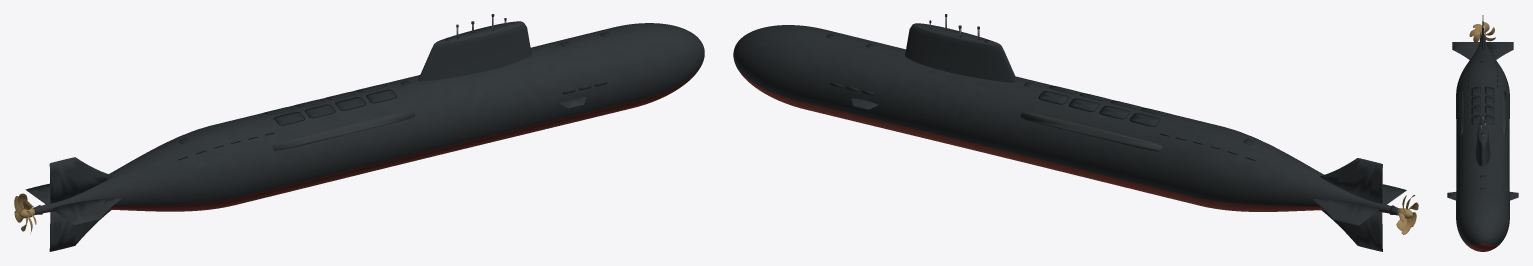
File: RU_SSN_Yasen_LOD2.fbx
The picture shows the model from 3 angles, left to right: view 1: azimuth 30°, elevation 25°; view 2: azimuth 150°, elevation 25°; view 3: azimuth 270°, elevation 25°; orthographic projection. The views are drawn at different scales.
Visible parts, largest first — view 1: RU_SSN_Yasen_LOD2; view 2: RU_SSN_Yasen_LOD2; view 3: RU_SSN_Yasen_LOD2.
Boxes of the visible parts, left/top/right/bottom form: RU_SSN_Yasen_LOD2: left=14, top=14, right=704, bottom=251; RU_SSN_Yasen_LOD2: left=733, top=14, right=1418, bottom=251; RU_SSN_Yasen_LOD2: left=1447, top=15, right=1518, bottom=251.
Bounding box in the file's own units: 120 × 17.2 × 21.96.
Materials: 7 (1 with a texture image).
